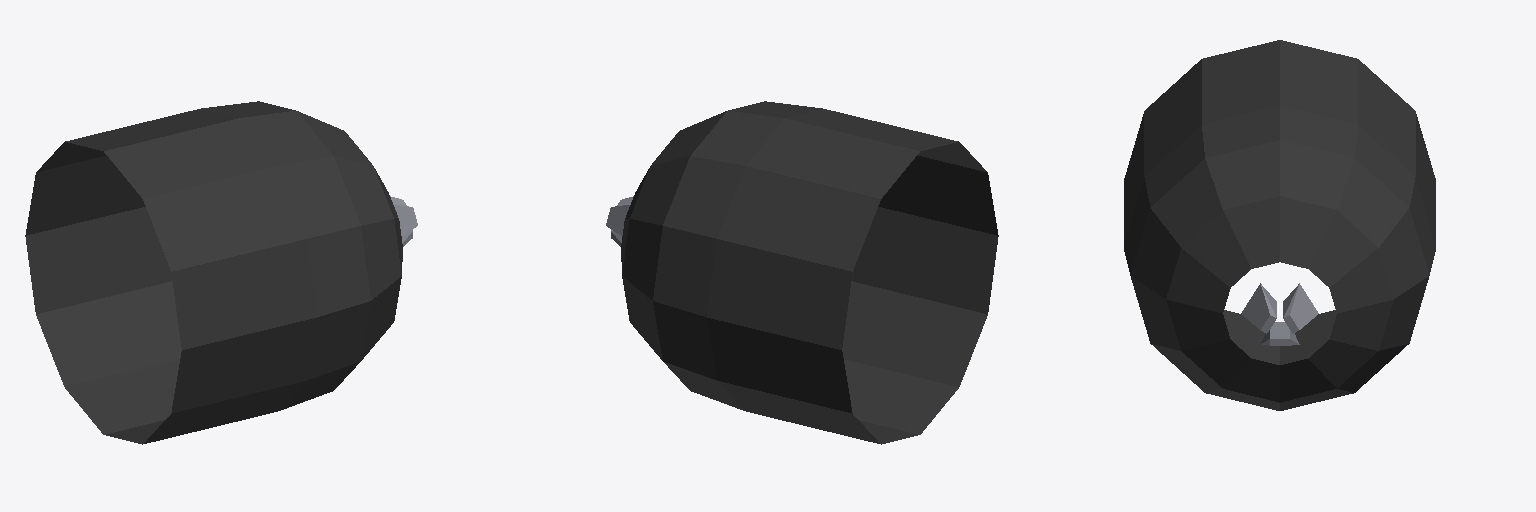
The model's file is chuck.obj.
3 views of the same model, side by side, from view 1: azimuth 30°, elevation 25°; view 2: azimuth 150°, elevation 25°; view 3: azimuth 270°, elevation 25° (orthographic).
Visible parts, largest first — view 1: chuck_Mesh8_BOSCH1_drill1_Model.005; view 2: chuck_Mesh8_BOSCH1_drill1_Model.005; view 3: chuck_Mesh8_BOSCH1_drill1_Model.005.
Boxes of the visible parts, <box> form: chuck_Mesh8_BOSCH1_drill1_Model.005: <box>25,101,417,444</box>; chuck_Mesh8_BOSCH1_drill1_Model.005: <box>606,101,998,444</box>; chuck_Mesh8_BOSCH1_drill1_Model.005: <box>1124,40,1435,410</box>.
Size of the model in its own units: 0.045 by 0.04 by 0.04.